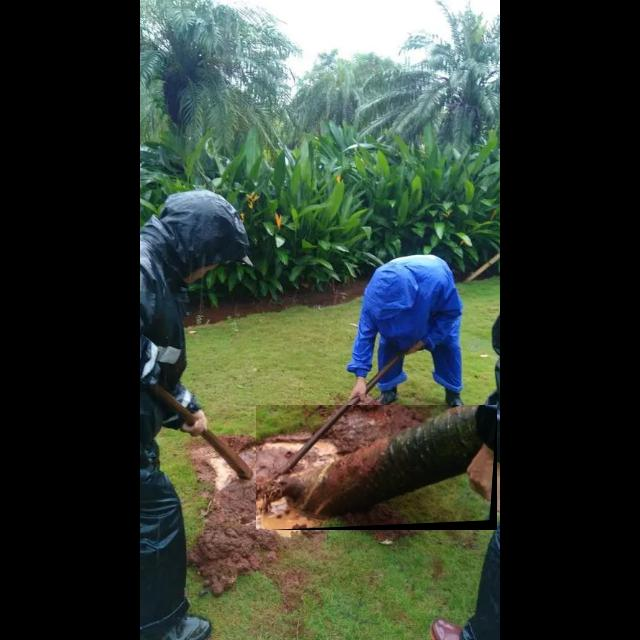Fallen Tree: (256, 405, 498, 531)
